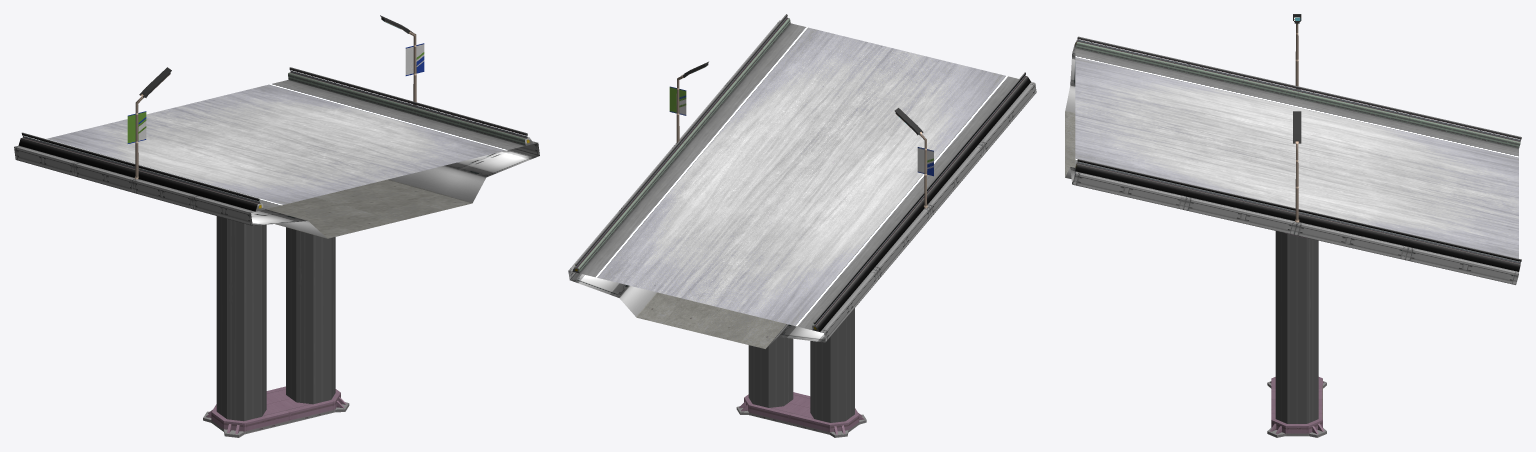
3 views of the same model, side by side, from view 1: azimuth 30°, elevation 25°; view 2: azimuth 150°, elevation 25°; view 3: azimuth 270°, elevation 25° (orthographic). The views are drawn at different scales.
Visible parts, largest first — view 1: straight_road, support_pylon, standard_bridge, barrier_elevated, support_ground, pro_streetlight_banners__4_, pro_streetlight_banners__3_; view 2: straight_road, standard_bridge, barrier_elevated, support_pylon, support_ground, pro_streetlight_banners__4_, pro_streetlight_banners__3_; view 3: straight_road, barrier_elevated, support_pylon, standard_bridge, support_ground, pro_streetlight_banners__3_.
Part boxes in pixels (x1=…): straight_road: x1=40, y1=80, x2=524, y2=209; support_pylon: x1=216, y1=216, x2=335, y2=421; standard_bridge: x1=14, y1=141, x2=539, y2=238; barrier_elevated: x1=18, y1=67, x2=533, y2=211; support_ground: x1=203, y1=386, x2=349, y2=437; pro_streetlight_banners__4_: x1=127, y1=67, x2=171, y2=179; pro_streetlight_banners__3_: x1=380, y1=15, x2=424, y2=105; straight_road: x1=580, y1=23, x2=1018, y2=330; standard_bridge: x1=568, y1=20, x2=1036, y2=348; barrier_elevated: x1=572, y1=14, x2=1030, y2=331; support_pylon: x1=748, y1=308, x2=854, y2=422; support_ground: x1=736, y1=392, x2=866, y2=437; pro_streetlight_banners__4_: x1=894, y1=108, x2=933, y2=208; pro_streetlight_banners__3_: x1=669, y1=61, x2=708, y2=143; straight_road: x1=1075, y1=48, x2=1518, y2=261; barrier_elevated: x1=1075, y1=36, x2=1521, y2=271; support_pylon: x1=1275, y1=231, x2=1318, y2=423; standard_bridge: x1=1065, y1=42, x2=1518, y2=284; support_ground: x1=1267, y1=377, x2=1326, y2=437; pro_streetlight_banners__3_: x1=1293, y1=111, x2=1301, y2=222.
Size of the model in its own units: 4622 by 5519 by 6586.
